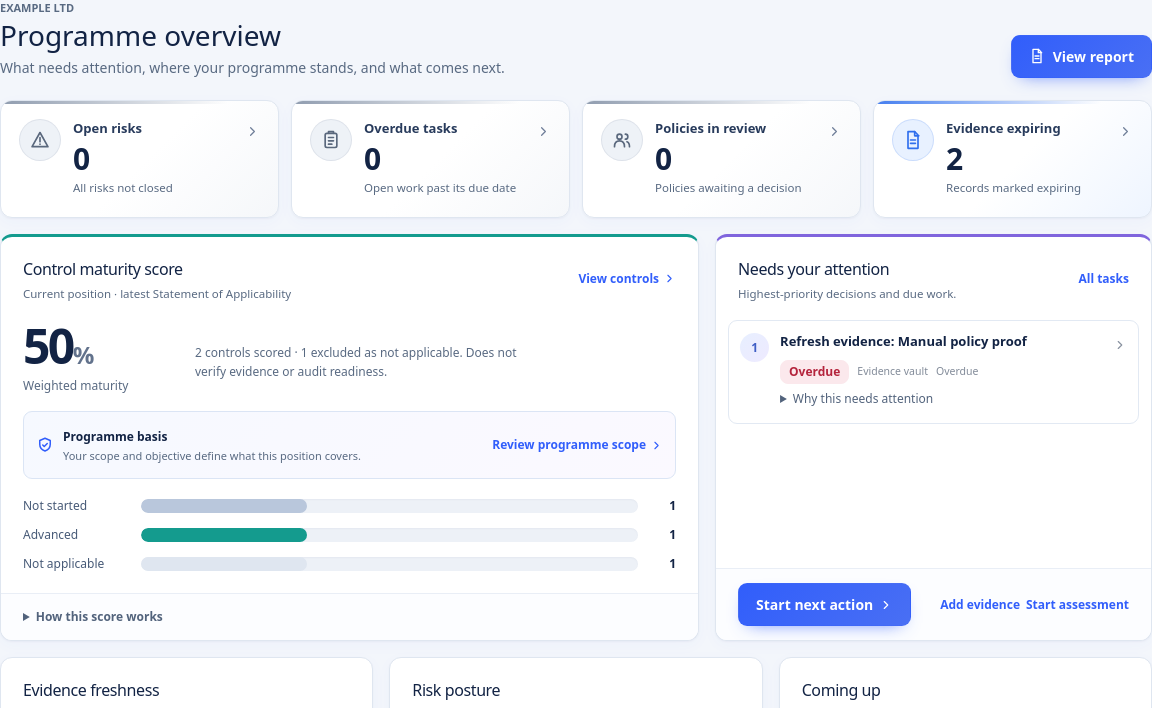
Test: Dashboard maturity clarity › explains the weighted denominator including undecided controls
Expected: the element with class "g-pct" reads "50%", [23,313,92,378]
Expected: the text "2 controls scored · 1 excluded as not applicable" is shown, [195,344,463,361]
Click the heading "How this score works": (93, 617) [23,608,163,626]
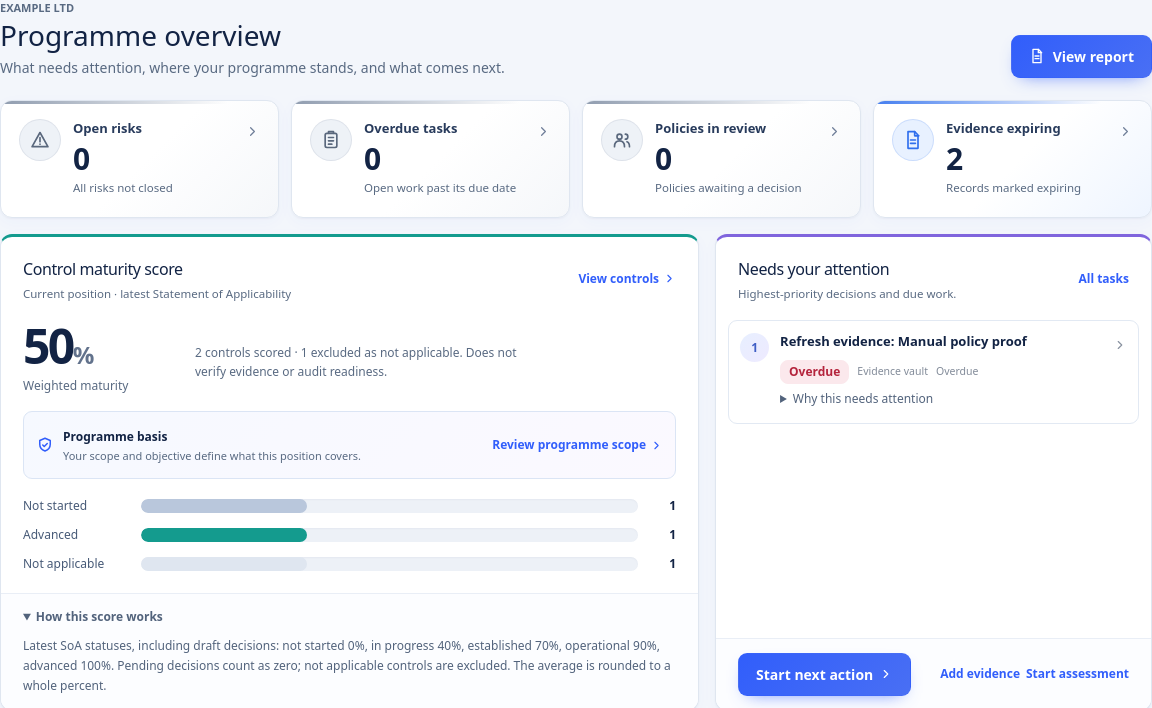
Expected: the text "Pending decisions count as zero" is shown, [23,637,671,694]
